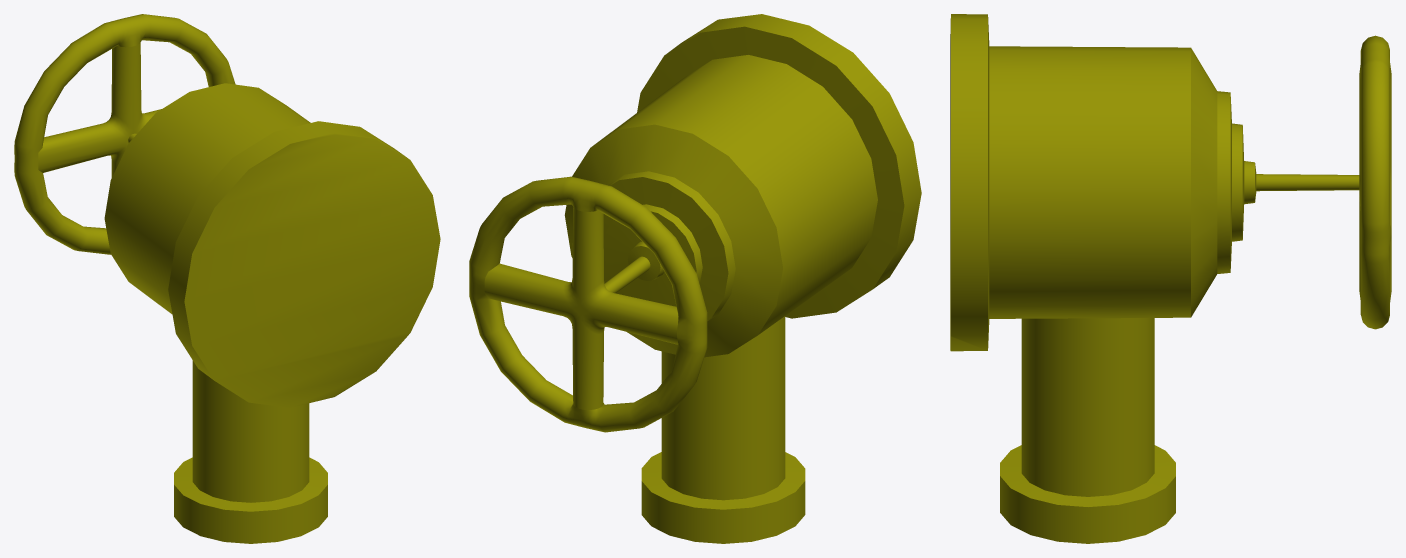
The model's file is Pipe Puzzle_P2 Pipe Modular_05.FBX.
The picture shows the model from 3 angles, left to right: view 1: azimuth 30°, elevation 25°; view 2: azimuth 150°, elevation 25°; view 3: azimuth 270°, elevation 25°; orthographic projection. The views are drawn at different scales.
Visible parts, largest first — view 1: valve modular 01; view 2: valve modular 01; view 3: valve modular 01.
Boxes of the visible parts, x1,y1,x2,y2 form: valve modular 01: (14,14,440,543); valve modular 01: (469,14,921,543); valve modular 01: (950,14,1391,543).
Size of the model in its own units: 11.37 by 17.67 by 14.86.
